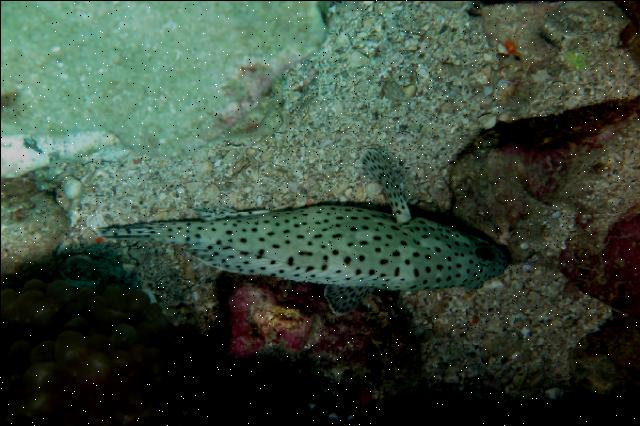Mulut: (91, 200, 165, 270), (489, 238, 519, 288)
Sirip Anal: (194, 184, 306, 226)
Sirip Dada: (339, 135, 419, 227), (313, 274, 379, 322)
Sirip Punggung: (178, 234, 292, 290)
